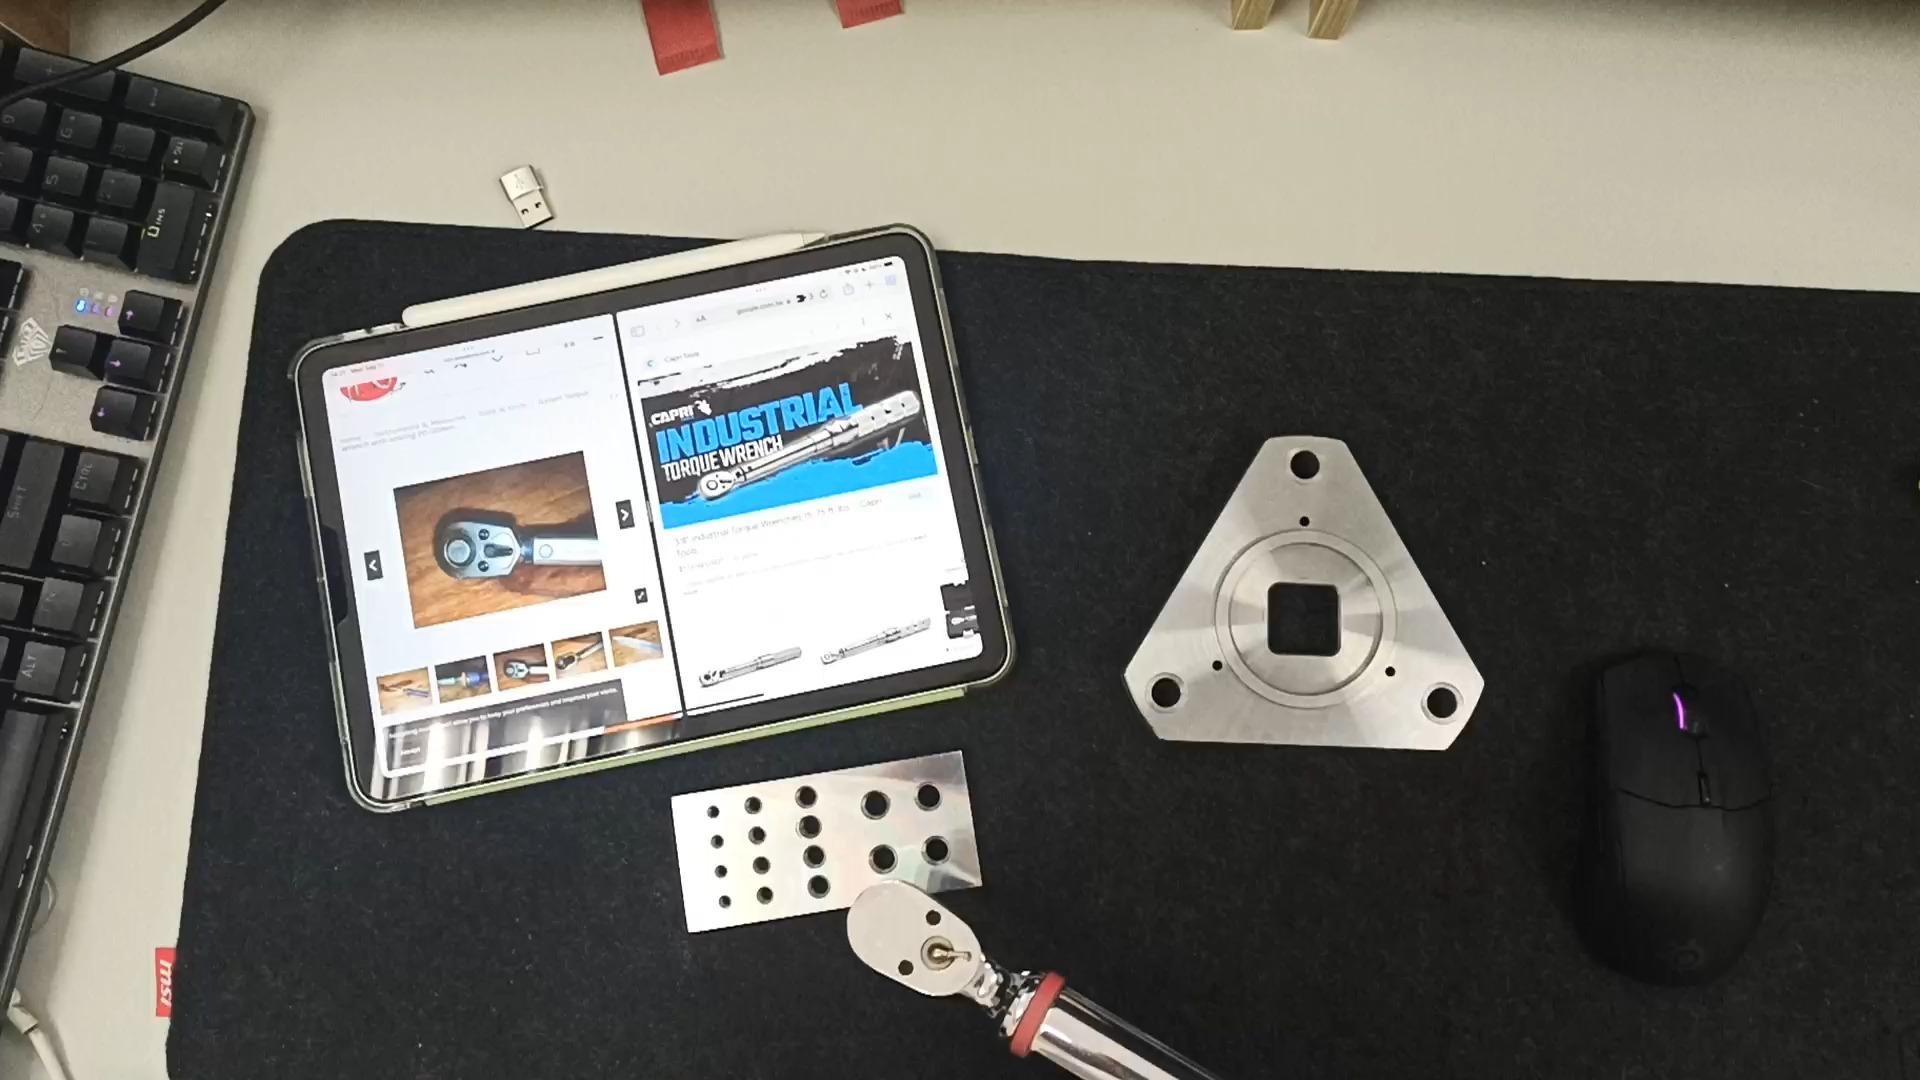Tool: (838, 868, 1032, 1035), (432, 515, 522, 590), (695, 468, 742, 502)
hole: (1407, 686, 1475, 736), (1272, 448, 1335, 493), (1135, 675, 1194, 719), (905, 833, 962, 870), (898, 782, 954, 819), (854, 844, 910, 879), (846, 791, 900, 824), (783, 813, 830, 842), (788, 847, 836, 875), (789, 877, 837, 904), (779, 786, 824, 813), (729, 825, 768, 847), (727, 798, 765, 819), (734, 859, 769, 879), (739, 888, 772, 907), (694, 836, 727, 855), (698, 866, 730, 884), (692, 805, 724, 823), (702, 899, 732, 916)
